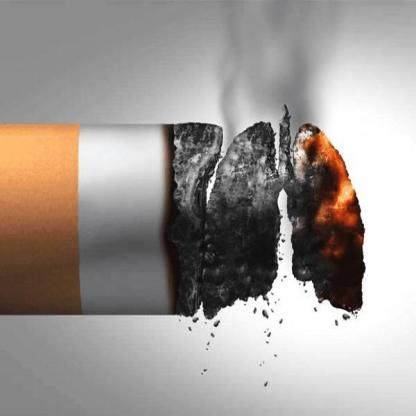smoke: (211, 0, 342, 125)
